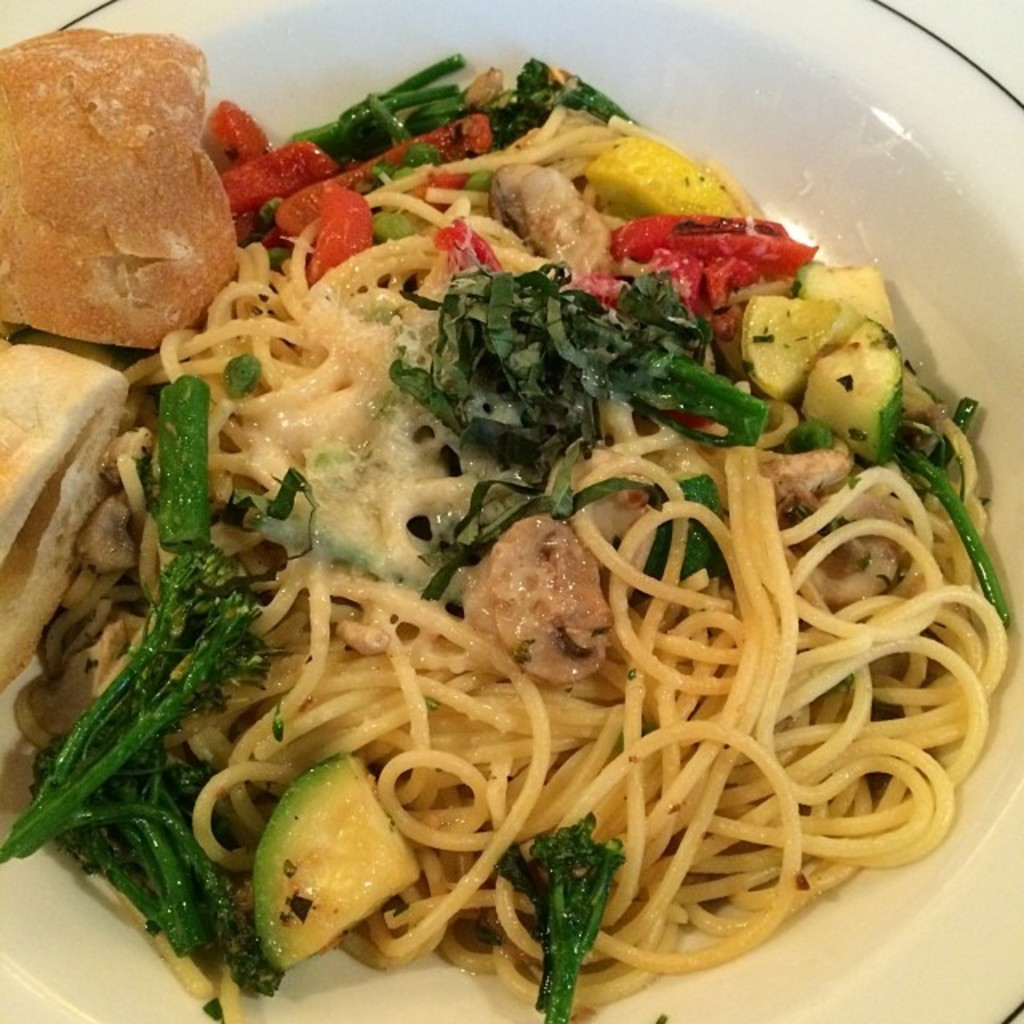pasta: (0, 27, 997, 1016)
